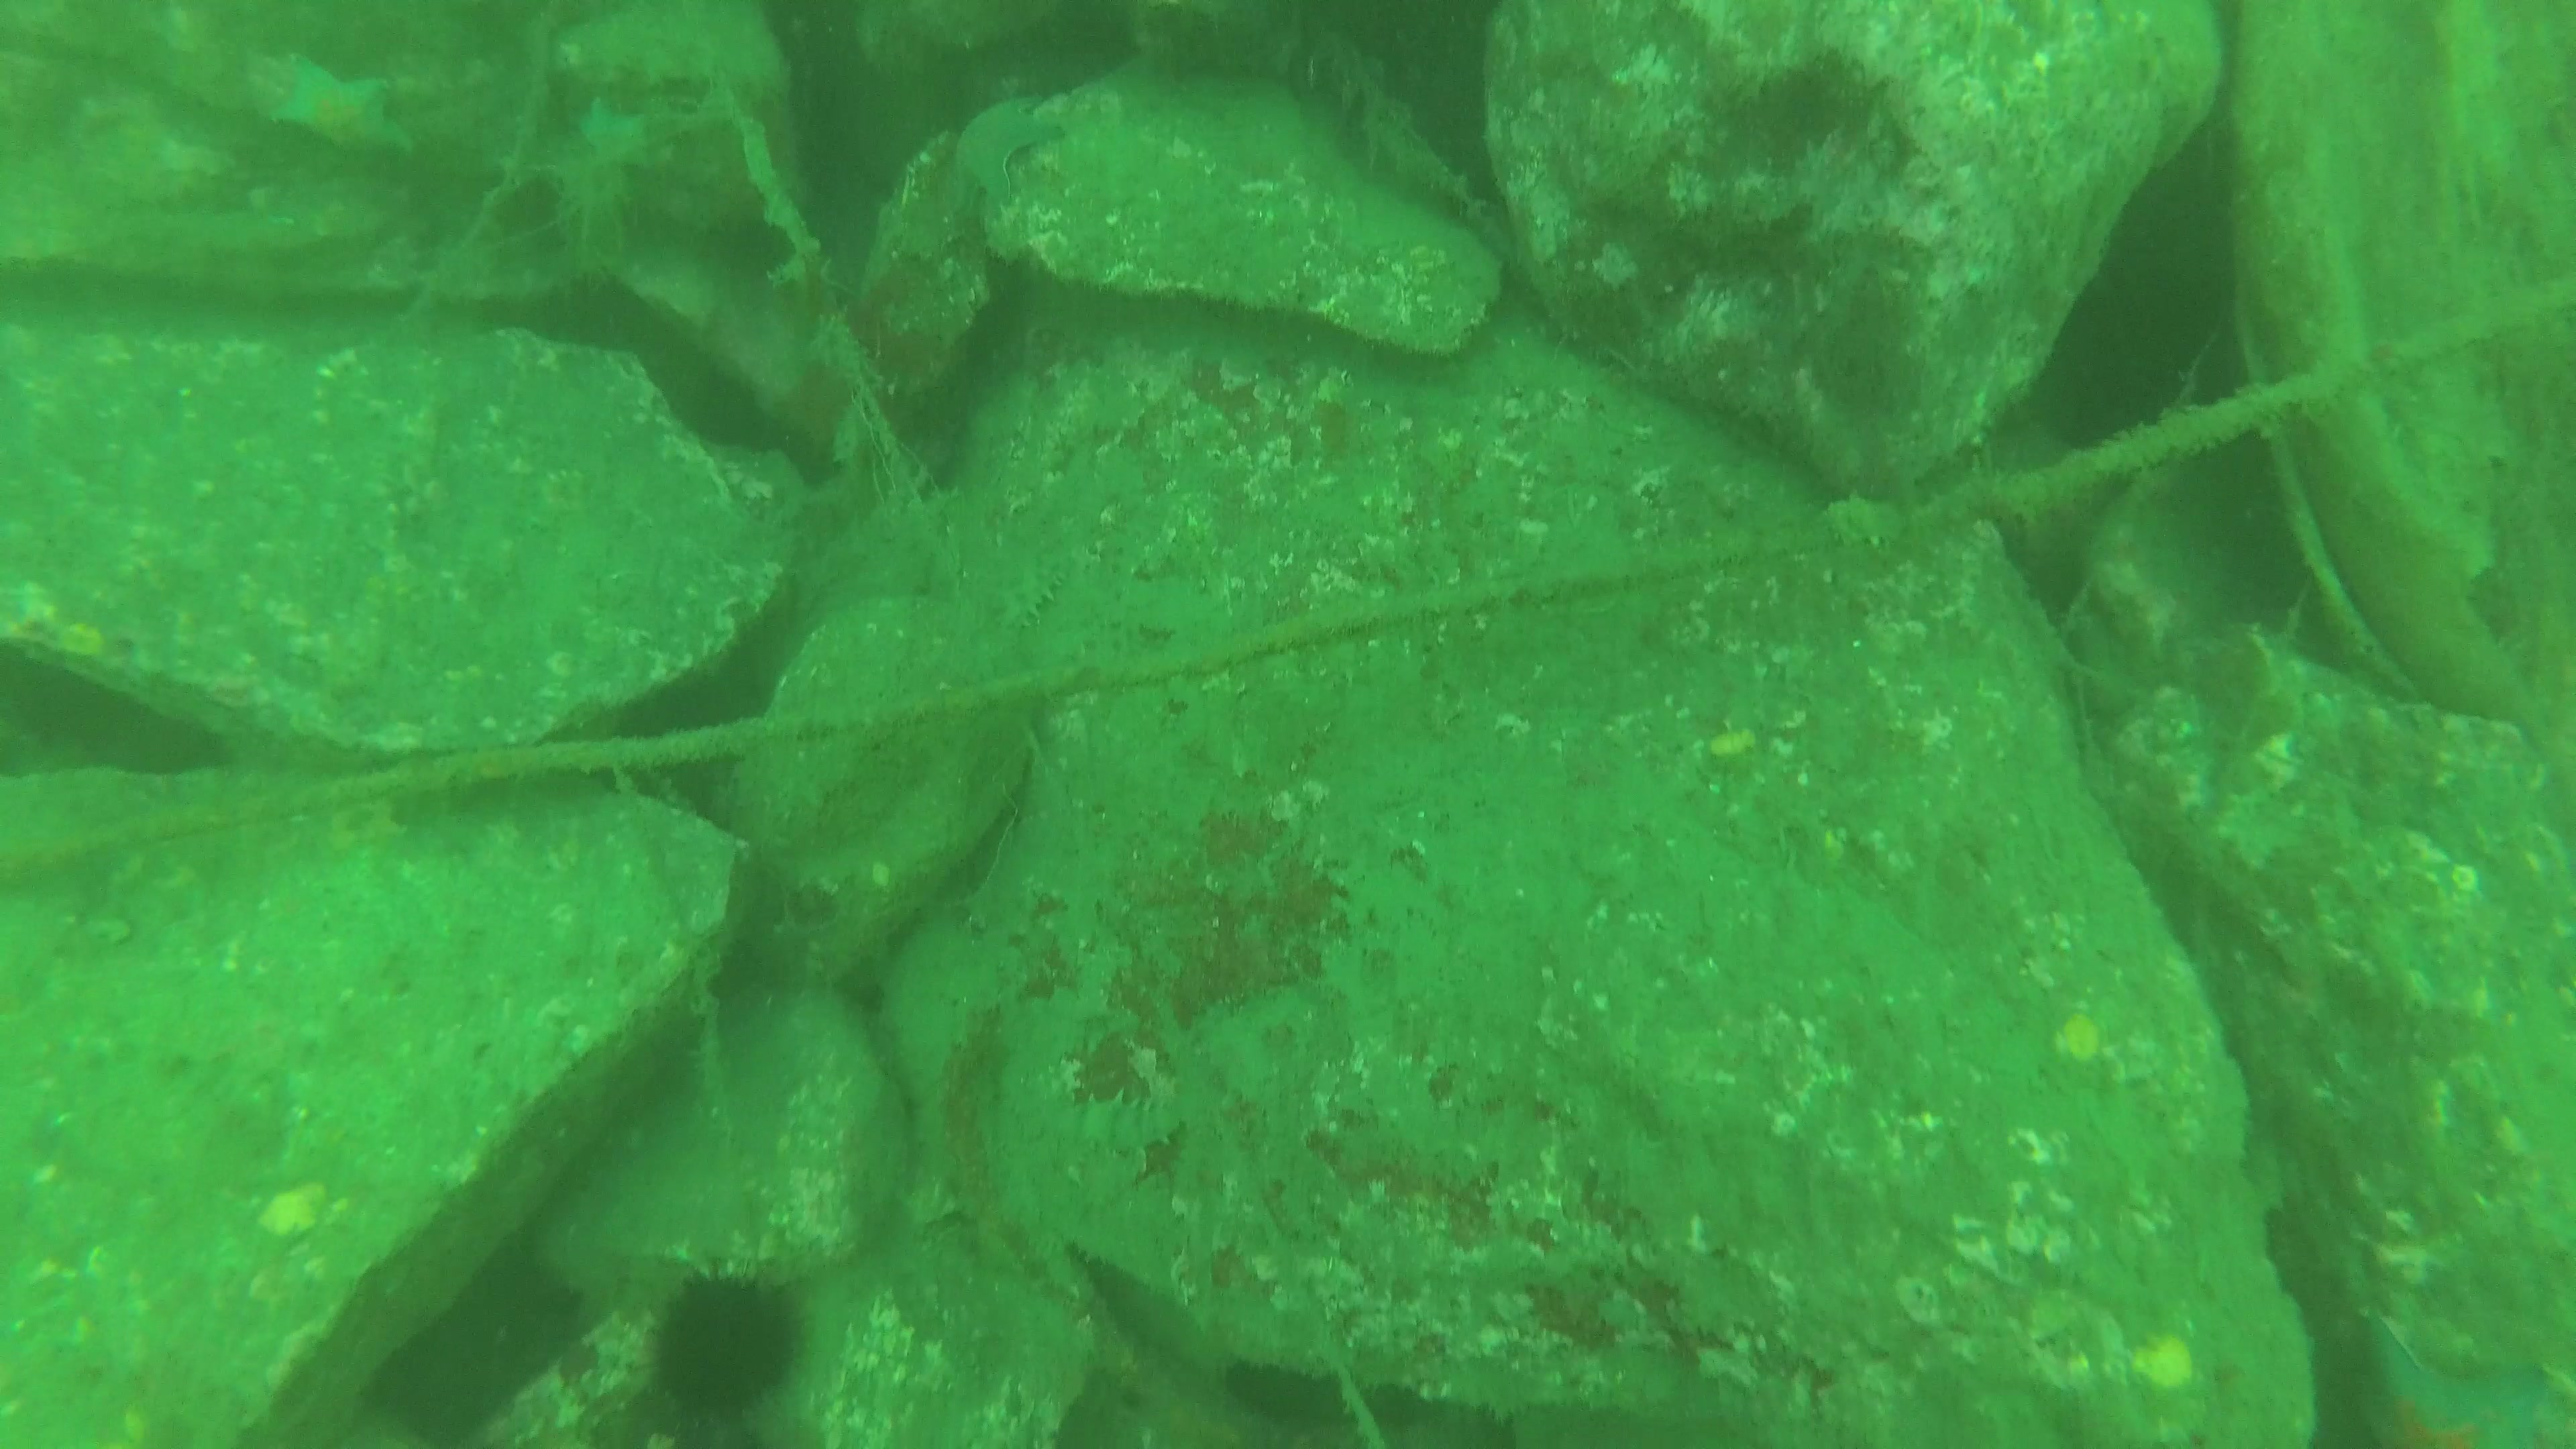echinus: (651, 1258, 814, 1421)
holothurian: (1060, 1088, 1177, 1154), (1000, 557, 1067, 626)
starfish: (2365, 1311, 2560, 1449), (269, 58, 416, 161), (954, 94, 1056, 214), (580, 99, 662, 175)
